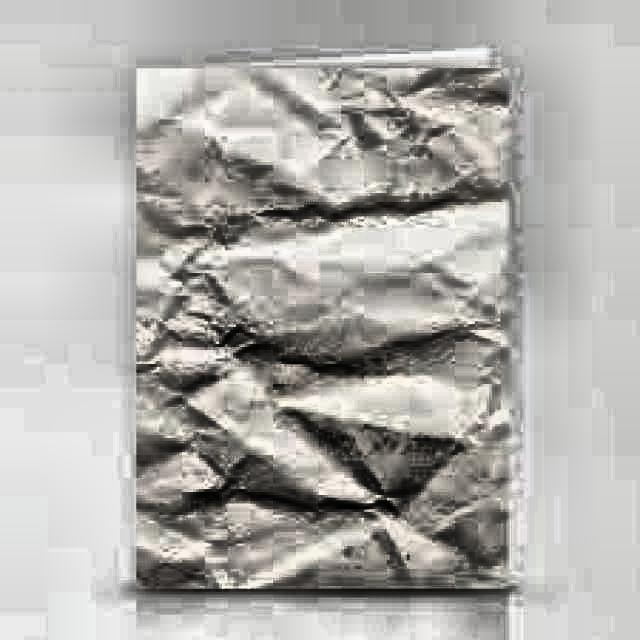Paper: (131, 48, 509, 589)
